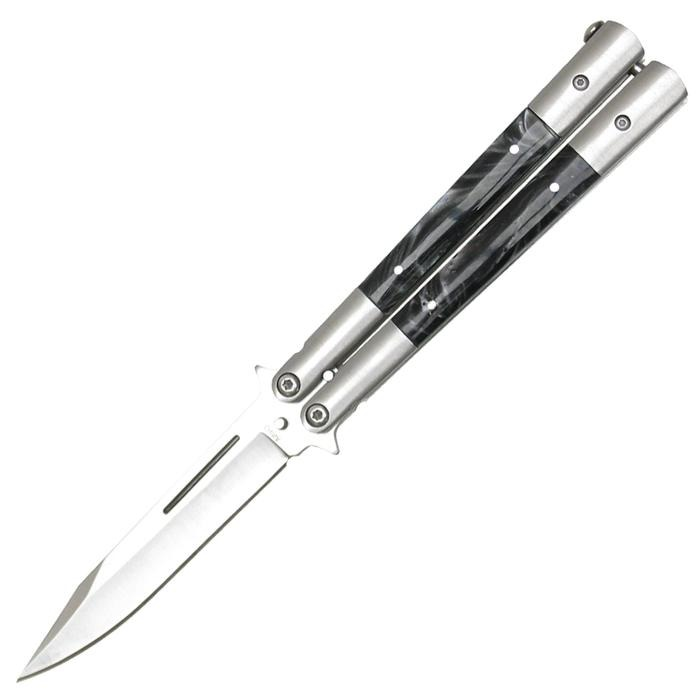knife: (14, 14, 690, 700)
